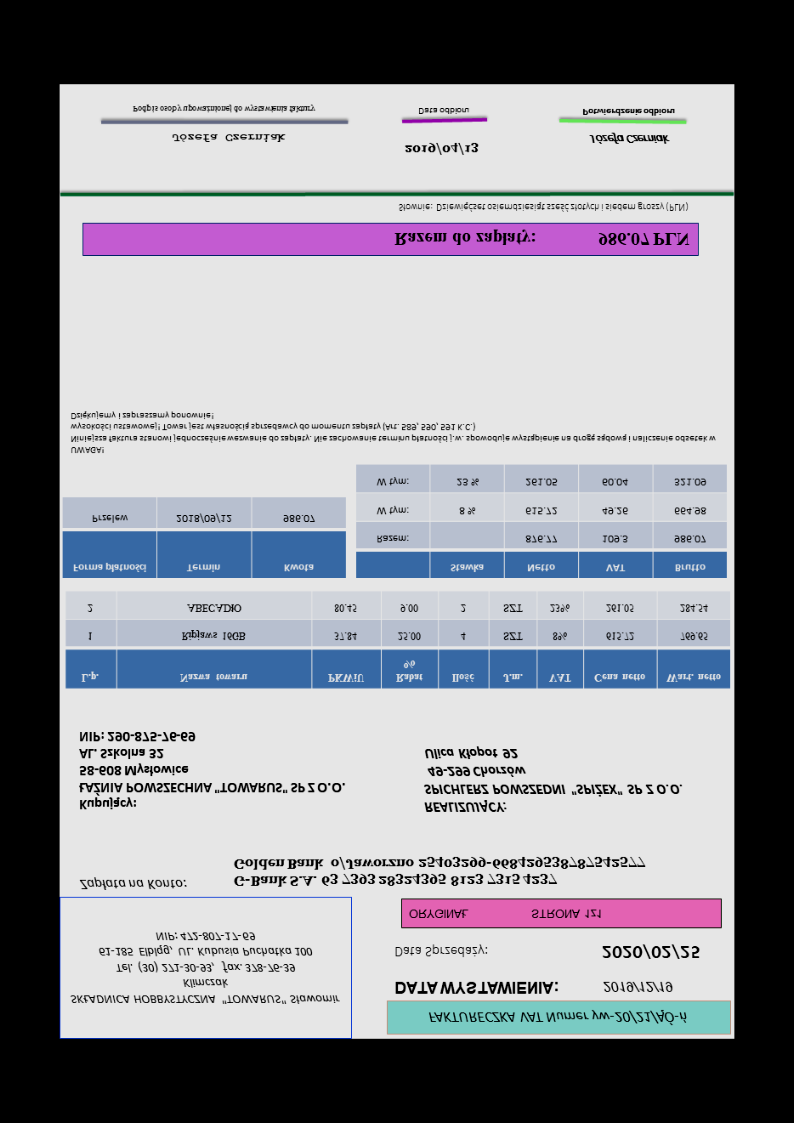Table: (64, 588, 730, 692), (355, 462, 729, 580), (61, 495, 346, 580)
TextBox: (68, 408, 718, 458), (77, 729, 347, 814), (65, 928, 343, 1009), (422, 744, 685, 817), (231, 852, 648, 892), (392, 228, 690, 251), (424, 1006, 691, 1029), (396, 199, 692, 216), (406, 905, 606, 924), (392, 978, 561, 999), (130, 103, 317, 117), (599, 943, 702, 964), (393, 942, 490, 962), (78, 877, 187, 894), (599, 978, 677, 998), (586, 131, 672, 149), (169, 132, 286, 145), (401, 139, 479, 158), (580, 105, 678, 119), (415, 105, 472, 118)
